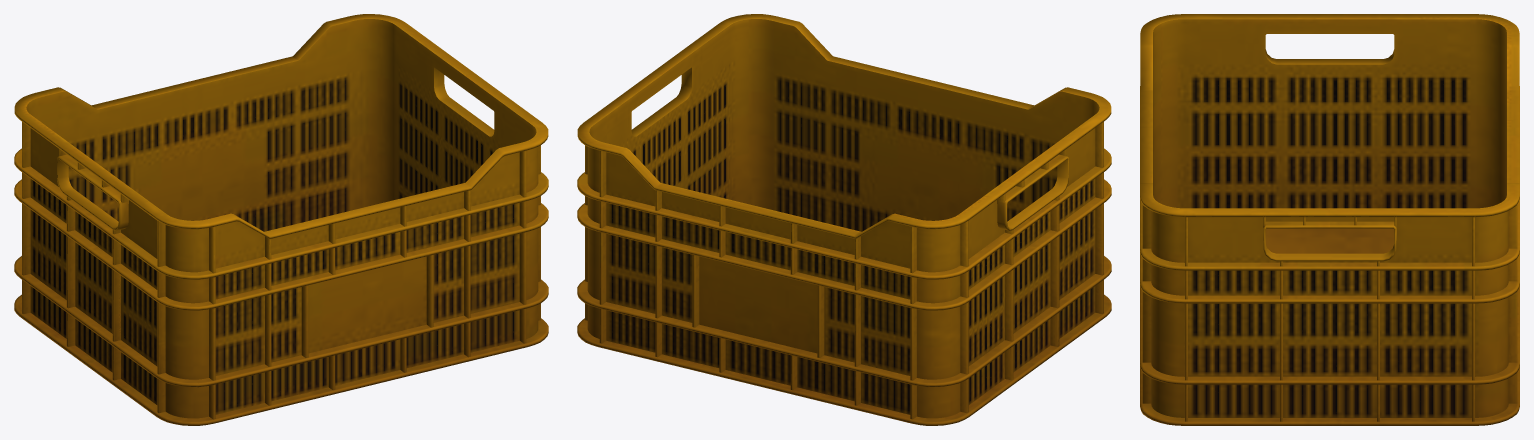
The picture shows the model from 3 angles, left to right: view 1: azimuth 30°, elevation 25°; view 2: azimuth 150°, elevation 25°; view 3: azimuth 270°, elevation 25°; orthographic projection. The views are drawn at different scales.
Parts seen in each view (by area): view 1: plastic_crate_02; view 2: plastic_crate_02; view 3: plastic_crate_02.
Part boxes in pixels (box(x1,y1,x2,y2)): plastic_crate_02: box(14, 14, 548, 425); plastic_crate_02: box(577, 14, 1111, 425); plastic_crate_02: box(1140, 14, 1519, 425).
Bounding box in the file's own units: 0.5055 × 0.2541 × 0.4055.
Materials: 1 (1 with a texture image).
